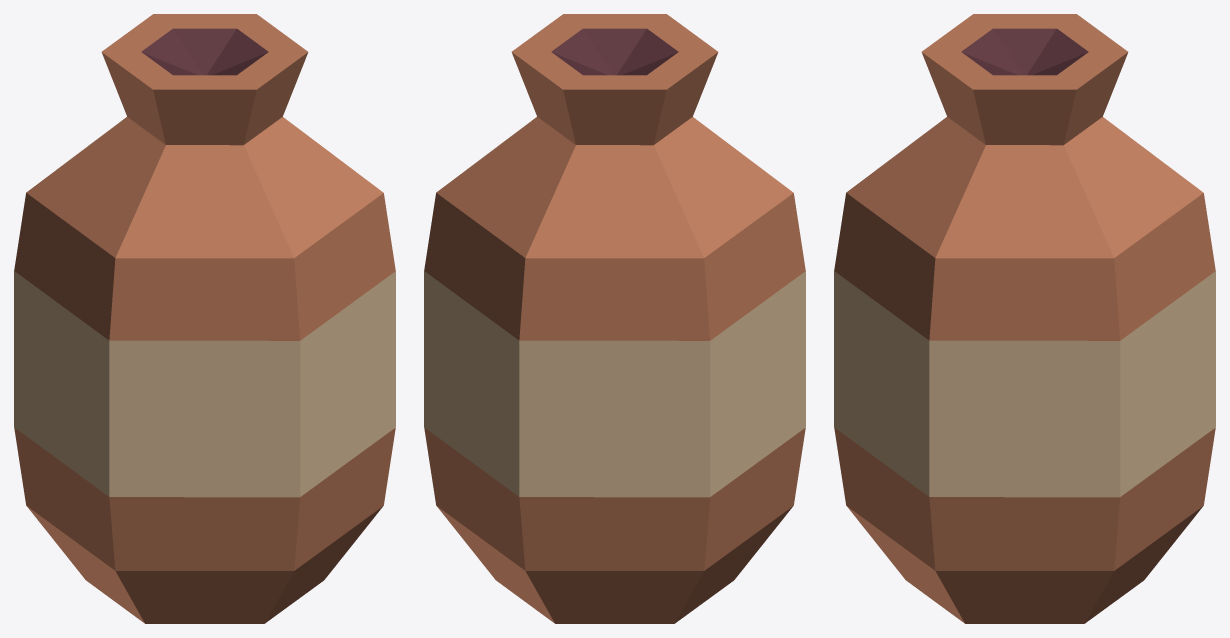
The model's file is SM_Vase_Tribal_Big.fbx.
3 renders of one model, left to right at view 1: azimuth 30°, elevation 25°; view 2: azimuth 150°, elevation 25°; view 3: azimuth 270°, elevation 25°, orthographic.
Parts seen in each view (by area): view 1: SM_Vase_Tribal_Big; view 2: SM_Vase_Tribal_Big; view 3: SM_Vase_Tribal_Big.
Boxes of the visible parts, x1,y1,x2,y2 form: SM_Vase_Tribal_Big: (14, 14, 395, 623); SM_Vase_Tribal_Big: (424, 14, 805, 623); SM_Vase_Tribal_Big: (834, 14, 1215, 623).
Size of the model in its own units: 0.4678 by 0.8246 by 0.5398.
